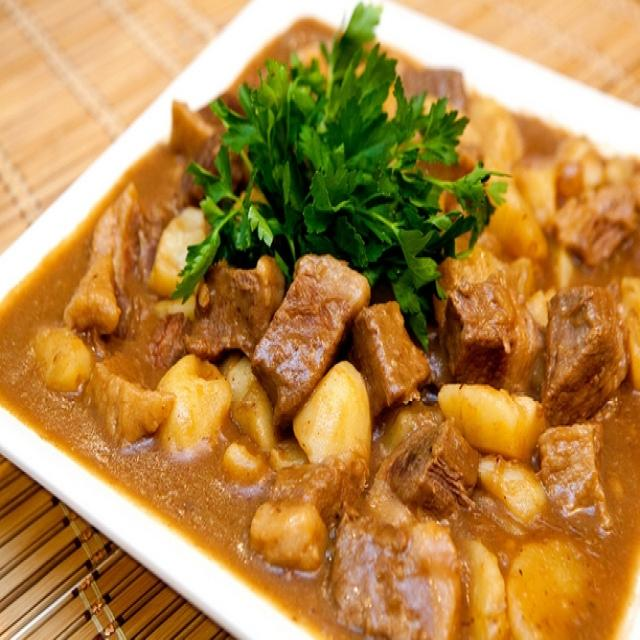牛肉菜式: (20, 9, 632, 618)
